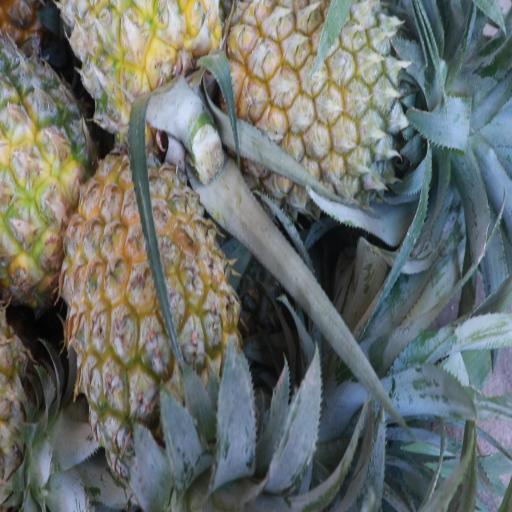------------------------------: (0, 21, 97, 312)
Pineapple - v8 v1: (52, 139, 250, 512), (207, 0, 413, 239), (50, 0, 228, 180)
